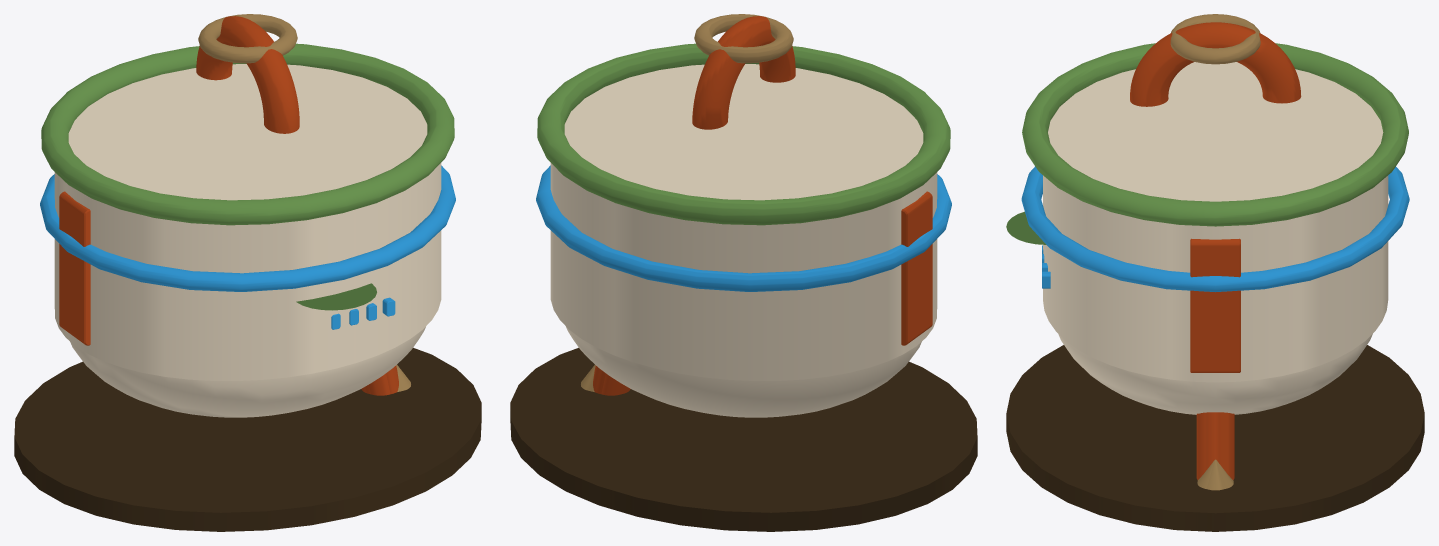
File: 0608_考古图鉴_“上林荣宫”铜方炉.glb
3 views of the same model, side by side, from view 1: azimuth 30°, elevation 25°; view 2: azimuth 150°, elevation 25°; view 3: azimuth 270°, elevation 25° (orthographic).
Parts seen in each view (by area): view 1: card_0608; view 2: card_0608; view 3: card_0608.
Part boxes in pixels (left/top/right/bottom): card_0608: left=14, top=14, right=481, bottom=531; card_0608: left=510, top=14, right=977, bottom=531; card_0608: left=1006, top=14, right=1424, bottom=531.
Size of the model in its own units: 1.01 by 1 by 0.8959.
